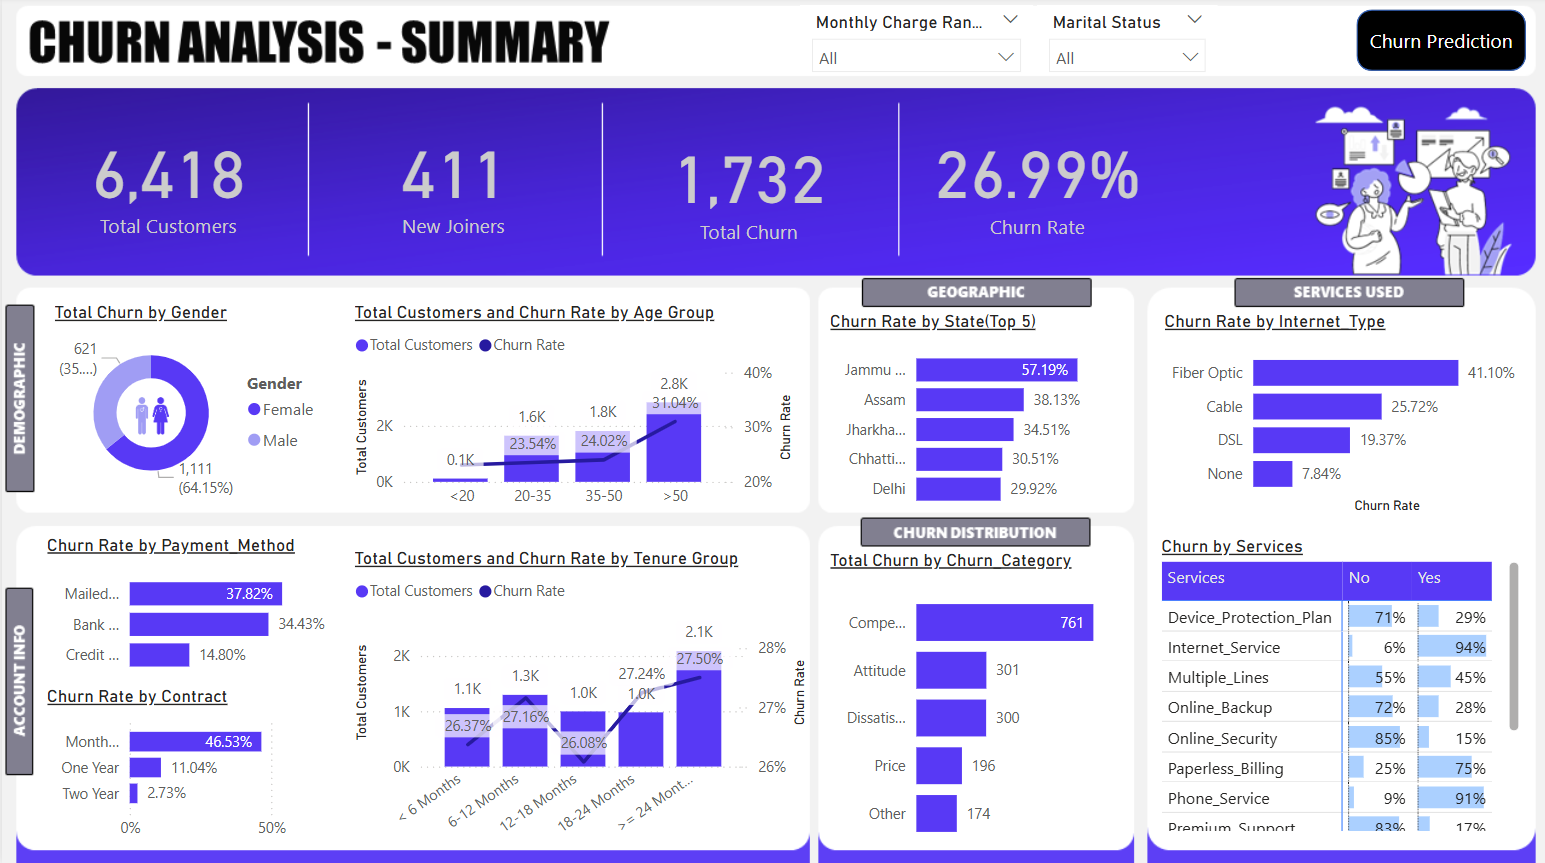

The dashboard page shown, as its layout file describes it:
{"tool":"powerbi","page":{"name":"Summary","canvas":[1280,720],"ordinal":0},"visuals":[{"type":"card","fields":{"Values":["Measures (2).Total Customers"]},"box":[31.7,71.7,210,158.3],"z":0},{"type":"card","fields":{"Values":["Measures (2).Churn Rate"]},"box":[756.7,80,198.3,141.7],"z":1000},{"type":"card","fields":{"Values":["Measures (2).Total Churn"]},"box":[516.7,78.3,200,155],"z":2000},{"type":"card","fields":{"Values":["Measures (2).New Joiners"]},"box":[268.3,71.7,210,158.3],"z":3000},{"type":"donutChart","fields":{"Category":["prod_Churn.Gender"],"Y":["Measures (2).Total Churn"]},"box":[38.3,253.3,235,166.7],"z":4000},{"type":"lineStackedColumnComboChart","fields":{"Category":["Mapping_AgeGrp.Age Group"],"Y":["Measures (2).Total Customers"],"Y2":["Measures (2).Churn Rate"]},"box":[286.7,253.3,371.7,178.3],"z":5000},{"type":"clusteredBarChart","fields":{"Category":["prod_Churn.Payment_Method"],"Y":["Measures (2).Churn Rate"]},"box":[31.7,445,241.7,125],"z":6000},{"type":"clusteredBarChart","fields":{"Y":["Measures (2).Churn Rate"],"Category":["prod_Churn.Contract"]},"box":[31.7,570,241.7,135],"z":7000},{"type":"lineStackedColumnComboChart","fields":{"Y":["Measures (2).Total Customers"],"Category":["Mapping_TenureGrp.Tenure Group"],"Y2":["Measures (2).Churn Rate"]},"box":[286.7,456.7,383.3,248.3],"z":8000},{"type":"clusteredBarChart","title":"Churn Rate by State(Top 5)","fields":{"Category":["prod_Churn.State"],"Y":["Measures (2).Churn Rate"]},"box":[680,260,252,172],"z":9000},{"type":"clusteredBarChart","fields":{"Category":["prod_Churn.Churn_Category"],"Y":["Measures (2).Total Churn"]},"box":[680,457,252,255],"z":10000},{"type":"clusteredBarChart","fields":{"Category":["prod_Churn.Internet_Type"],"Y":["Measures (2).Churn Rate"]},"box":[955.5,260.4,304.4,171.1],"z":11000},{"type":"image","box":[92.7,320.9,62.7,50],"z":12000},{"type":"pivotTable","title":"Churn by Services","fields":{"Rows":["prod_Services.Services"],"Columns":["prod_Services.Status"],"Values":["Sum(prod_Services.Churn Status)"]},"box":[953.9,446.7,305.9,248.3],"z":13000},{"type":"slicer","fields":{"Values":["prod_Services.Monthly Charge Status"]},"box":[659.5,7.6,192.8,56.7],"z":14000},{"type":"slicer","fields":{"Values":["prod_Services.Married"]},"box":[856.1,7.6,149.3,56.7],"z":15000},{"type":"shape","box":[1119.7,11.2,140.1,50.8],"z":16000}]}

Visuals, with their boxes in screenshot pixels (x1, y1, x2, y2), scaled from the page's 1280x720 canvas onto the 1545x863 screenshot:
card - Measures (2).Total Customers: <region>38, 86, 292, 276</region>
card - Measures (2).Churn Rate: <region>913, 96, 1153, 266</region>
card - Measures (2).Total Churn: <region>624, 94, 865, 280</region>
card - Measures (2).New Joiners: <region>324, 86, 577, 276</region>
donutChart - prod_Churn.Gender x Measures (2).Total Churn: <region>46, 304, 330, 503</region>
lineStackedColumnComboChart - Mapping_AgeGrp.Age Group x Measures (2).Total Customers: <region>346, 304, 795, 517</region>
clusteredBarChart - prod_Churn.Payment_Method x Measures (2).Churn Rate: <region>38, 533, 330, 683</region>
clusteredBarChart - Measures (2).Churn Rate x prod_Churn.Contract: <region>38, 683, 330, 845</region>
lineStackedColumnComboChart - Measures (2).Total Customers x Mapping_TenureGrp.Tenure Group: <region>346, 547, 809, 845</region>
"Churn Rate by State(Top 5)" clusteredBarChart: <region>821, 312, 1125, 518</region>
clusteredBarChart - prod_Churn.Churn_Category x Measures (2).Total Churn: <region>821, 548, 1125, 853</region>
clusteredBarChart - prod_Churn.Internet_Type x Measures (2).Churn Rate: <region>1153, 312, 1521, 517</region>
image: <region>112, 385, 188, 445</region>
"Churn by Services" pivotTable: <region>1151, 535, 1521, 833</region>
slicer - prod_Services.Monthly Charge Status: <region>796, 9, 1029, 77</region>
slicer - prod_Services.Married: <region>1033, 9, 1214, 77</region>
shape: <region>1352, 13, 1521, 74</region>
